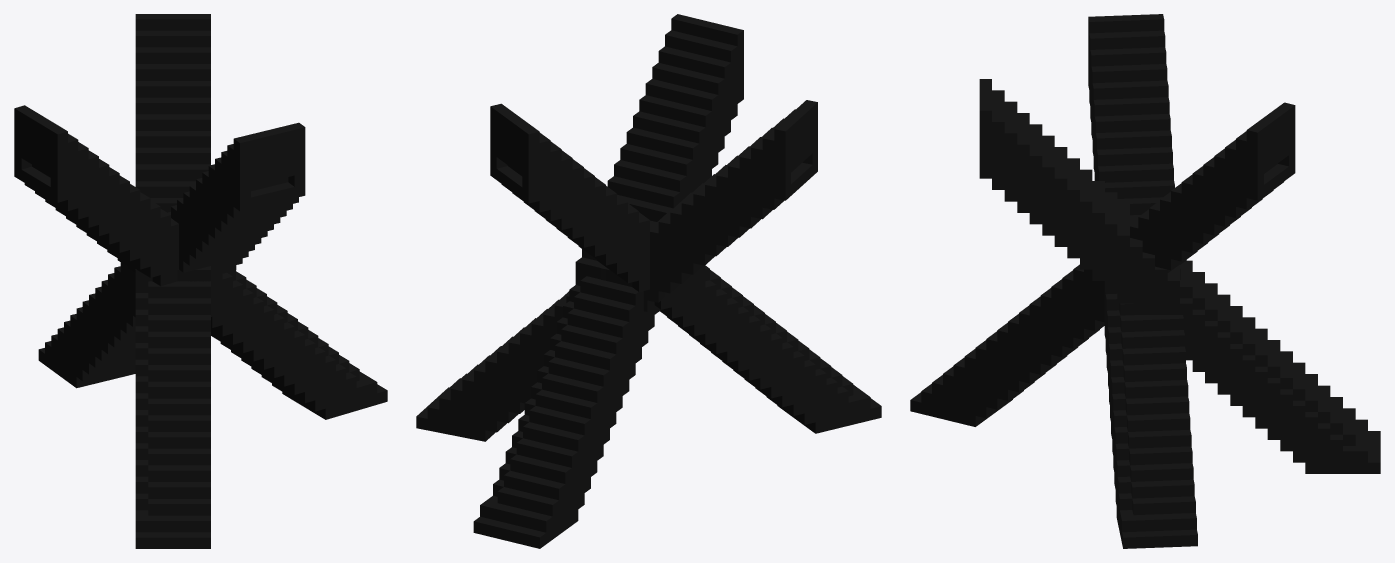
Rendered from anti-tank-fence.dae.
3 views of the same model, side by side, from view 1: azimuth 30°, elevation 25°; view 2: azimuth 150°, elevation 25°; view 3: azimuth 270°, elevation 25° (orthographic).
Visible parts, largest first — view 1: part_3-local, part_2-local, part_1-local; view 2: part_1-local, part_3-local, part_2-local; view 3: part_1-local, part_2-local, part_3-local.
Part boxes in pixels (left/top/right/bottom): part_3-local: left=135, top=14, right=210, bottom=548; part_2-local: left=14, top=105, right=387, bottom=419; part_1-local: left=38, top=122, right=305, bottom=388; part_1-local: left=473, top=14, right=743, bottom=548; part_3-local: left=490, top=103, right=881, bottom=433; part_2-local: left=416, top=100, right=817, bottom=441; part_1-local: left=979, top=79, right=1380, bottom=473; part_2-local: left=1088, top=14, right=1197, bottom=548; part_3-local: left=910, top=102, right=1295, bottom=426.
Size of the model in its own units: 32.4 by 32 by 37.52.
1 material, 1 textured.
